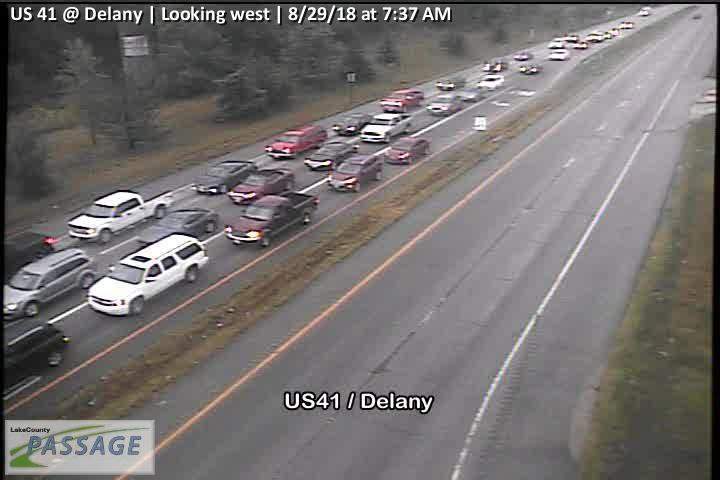SUV: (4, 247, 97, 319), (2, 317, 71, 376), (2, 229, 56, 283), (326, 151, 389, 193), (264, 124, 327, 163), (379, 87, 425, 112), (547, 37, 566, 49), (585, 30, 602, 43), (636, 5, 653, 17)
Sedan: (136, 207, 219, 248), (228, 167, 296, 205), (193, 157, 260, 195), (305, 139, 360, 170), (382, 135, 432, 164), (331, 111, 373, 134), (425, 92, 466, 115), (435, 74, 467, 91), (476, 73, 504, 92), (482, 57, 509, 72), (518, 61, 543, 76), (549, 48, 572, 61), (513, 48, 534, 62), (618, 21, 634, 29), (609, 26, 621, 34), (573, 43, 588, 49), (566, 34, 580, 40), (602, 31, 611, 38)
Truck: (84, 233, 212, 318), (66, 189, 175, 244), (224, 189, 321, 248), (359, 111, 418, 145)
